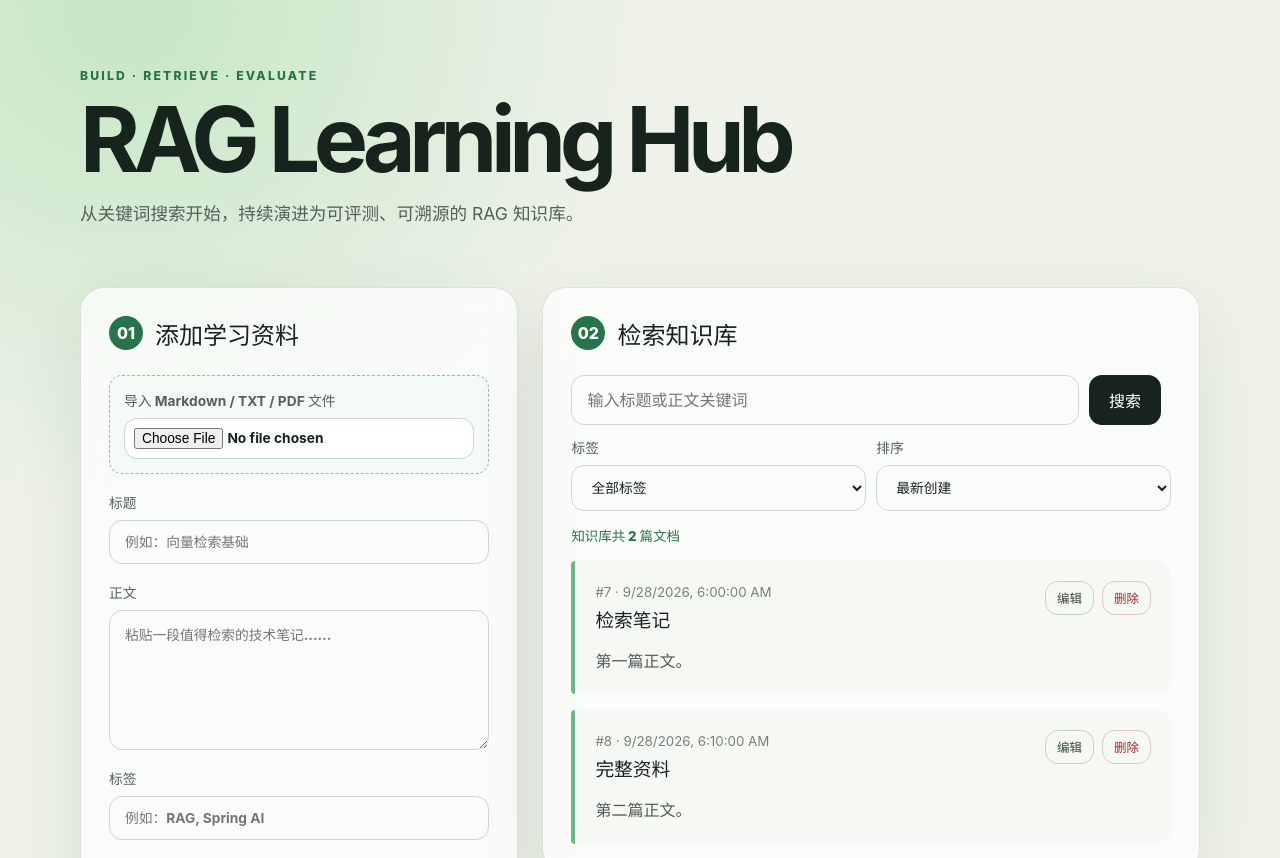
Scenario: App › clears an active search and reloads all documents
Type "检索" into the field with placeholder "输入标题或正文关键词".
click(825, 400); type("检索")  # box [571,375,1079,425]
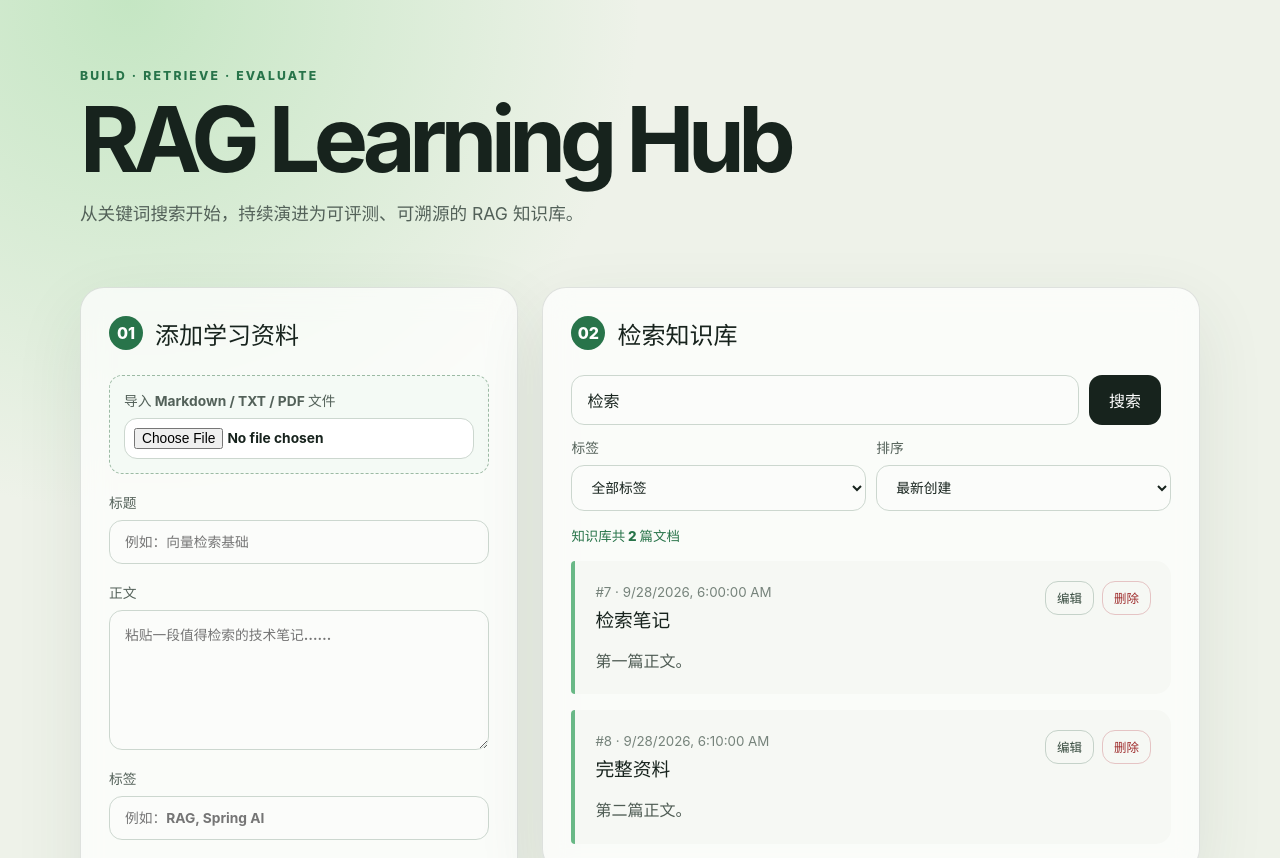
Submit the form with class "search", box [571,375,1171,511]
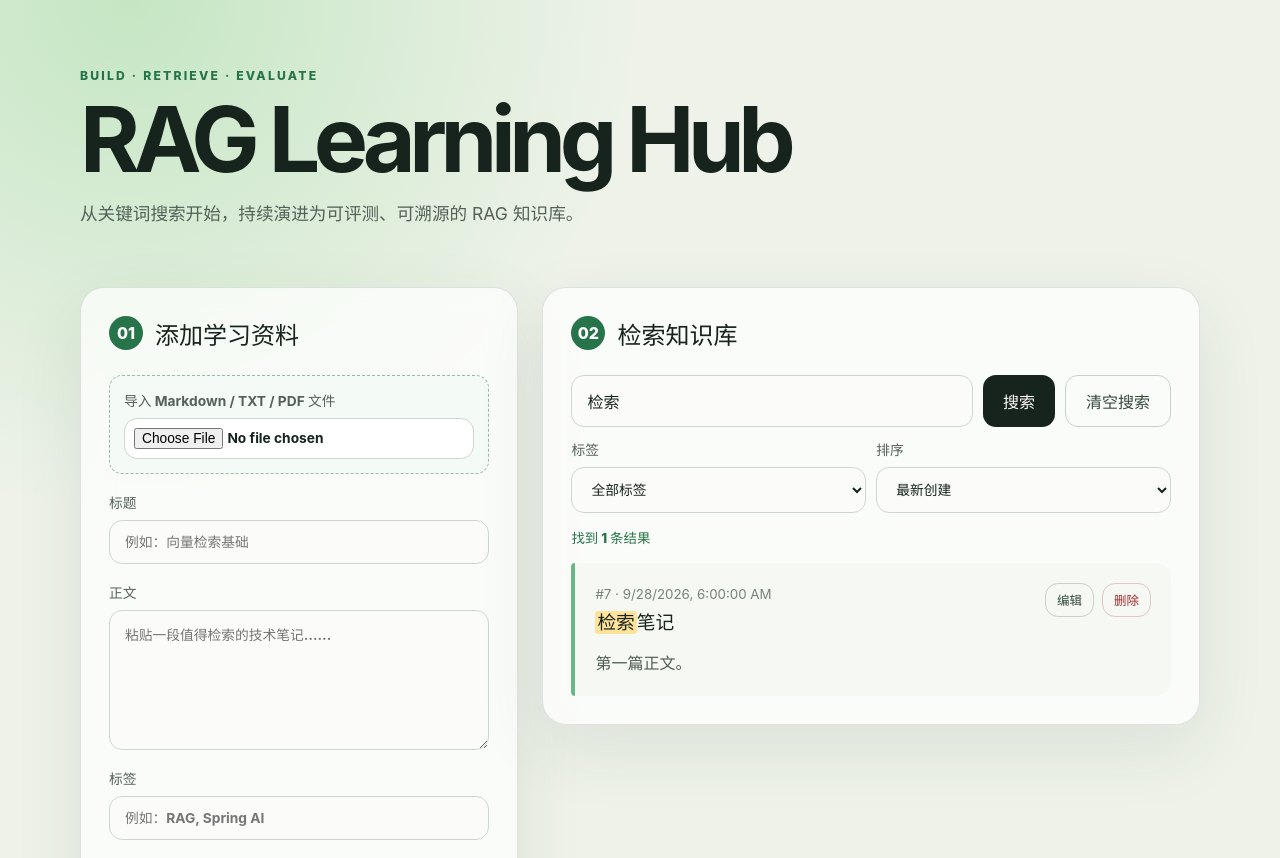
Expected: the text with class "result-summary" reads "找到 1 条结果", [571,530,650,546]
Click the button with class "clear-search".
click(1118, 401)  # box [1065,375,1171,427]
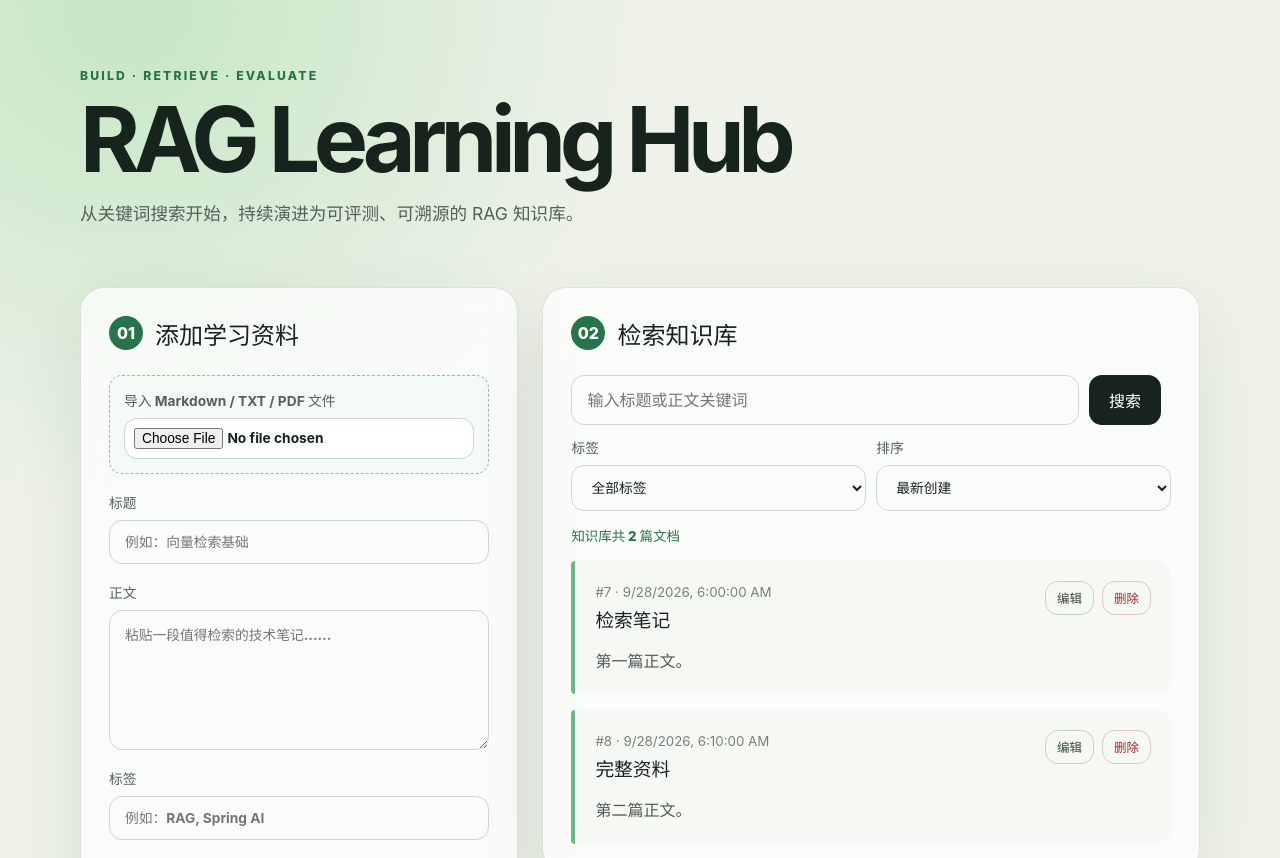
Expected: the field with placeholder "输入标题或正文关键词" is empty, [571,375,1079,425]
Expected: the text with class "result-summary" reads "知识库共 2 篇文档", [571,528,680,544]
